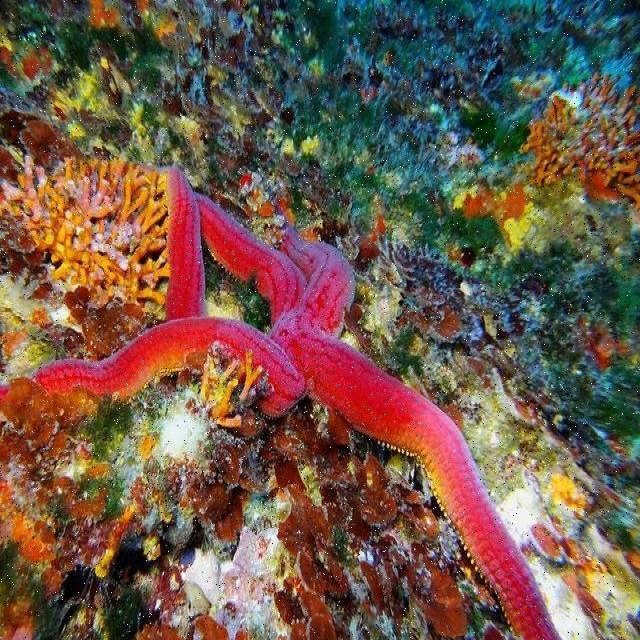reefs: (30, 164, 560, 639), (1, 153, 169, 305), (524, 74, 639, 209)
